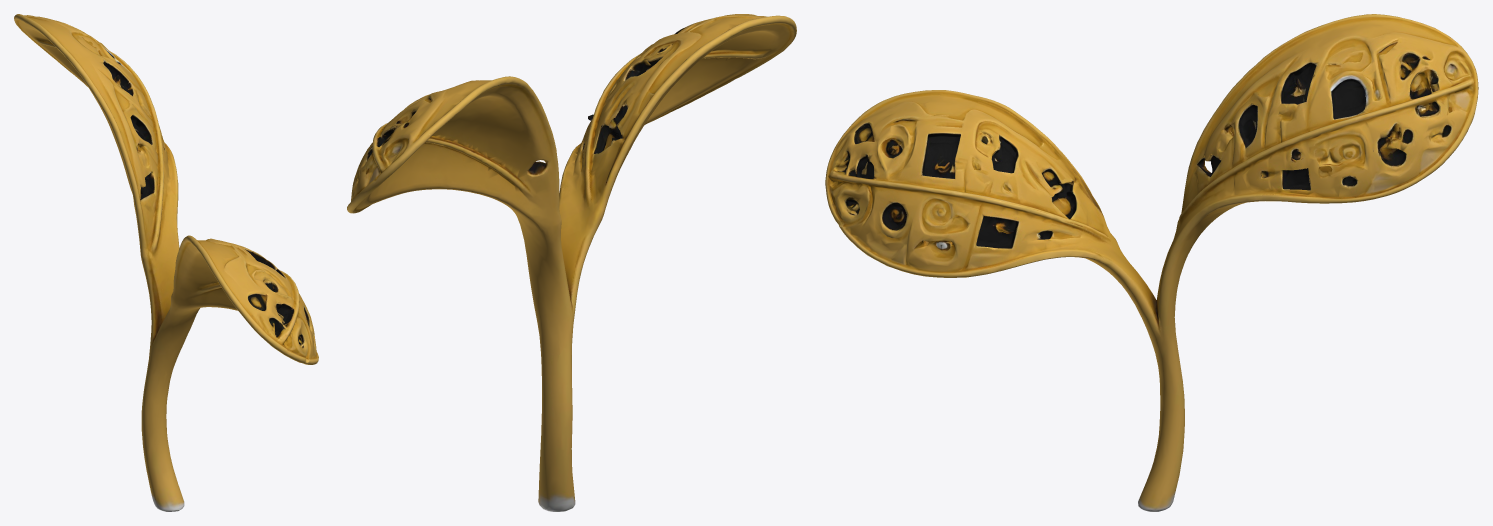
Rendered from golden+leaf+jewelry+3d+model+1k.glb.
3 views of the same model, side by side, from view 1: azimuth 30°, elevation 25°; view 2: azimuth 150°, elevation 25°; view 3: azimuth 270°, elevation 25° (orthographic). The views are drawn at different scales.
Visible parts, largest first — view 1: tripo_node_5947c0fb-fdb7-4bf4-8194-790198081238; view 2: tripo_node_5947c0fb-fdb7-4bf4-8194-790198081238; view 3: tripo_node_5947c0fb-fdb7-4bf4-8194-790198081238.
Boxes of the visible parts, <box> form: tripo_node_5947c0fb-fdb7-4bf4-8194-790198081238: <box>14,14,318,511</box>; tripo_node_5947c0fb-fdb7-4bf4-8194-790198081238: <box>347,14,796,511</box>; tripo_node_5947c0fb-fdb7-4bf4-8194-790198081238: <box>825,14,1478,511</box>.
Bounding box in the file's own units: 0.2605 × 0.8015 × 1.
1 material, 1 textured.
